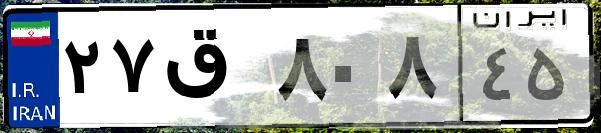0: (330, 28, 385, 110)
2: (57, 26, 110, 100)
4: (475, 38, 525, 113)
5: (525, 38, 570, 115)
7: (110, 28, 158, 98)
8: (270, 28, 330, 110), (385, 28, 445, 110)
ق: (158, 20, 270, 120)
